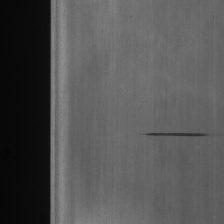crease: (142, 120, 216, 148)
